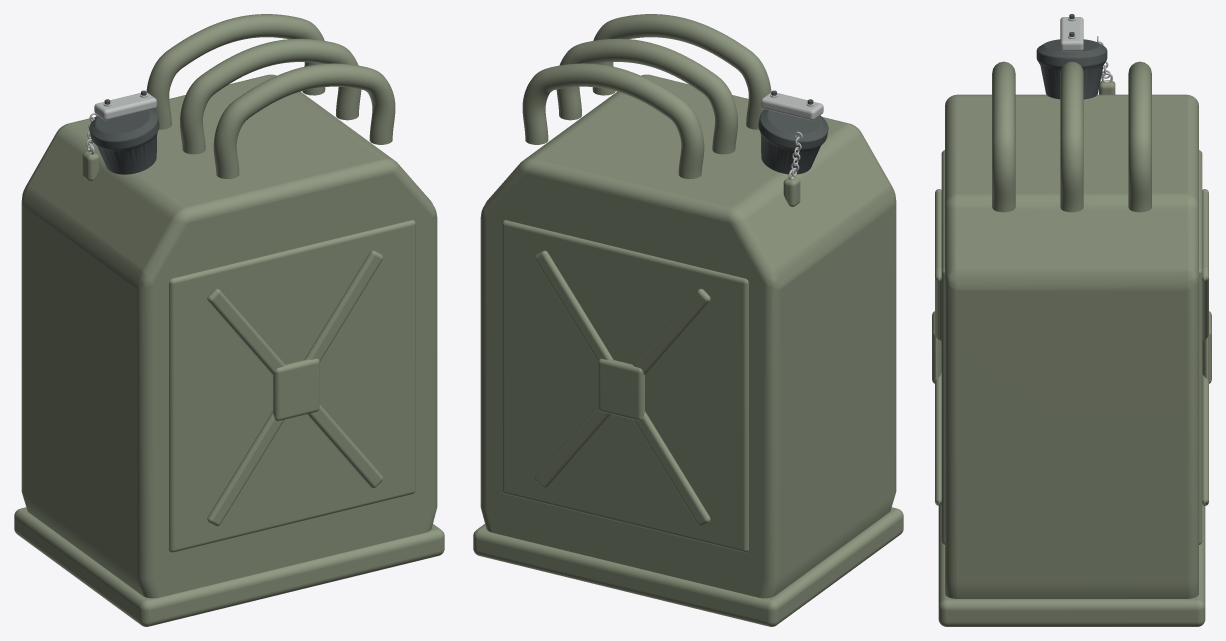
Rendered from fuel.fbx.
3 renders of one model, left to right at view 1: azimuth 30°, elevation 25°; view 2: azimuth 150°, elevation 25°; view 3: azimuth 270°, elevation 25°, orthographic.
Visible parts, largest first — view 1: fuel_LOD0; view 2: fuel_LOD0; view 3: fuel_LOD0.
Boxes of the visible parts, x1,y1,x2,y2 form: fuel_LOD0: [14, 14, 444, 626]; fuel_LOD0: [473, 14, 903, 626]; fuel_LOD0: [932, 14, 1211, 626].
Size of what is drawn, in the model's own units: 0.302 by 0.4665 by 0.238.
